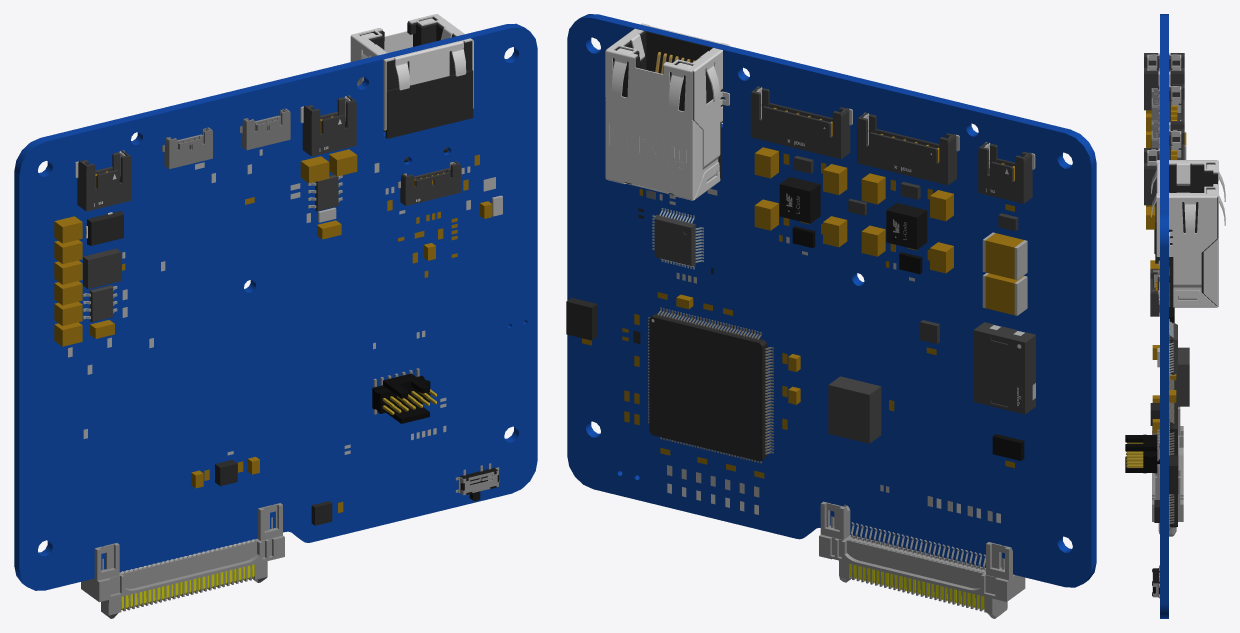
Rendered from phileas.glb.
3 views of the same model, side by side, from view 1: azimuth 30°, elevation 25°; view 2: azimuth 150°, elevation 25°; view 3: azimuth 270°, elevation 25° (orthographic). The views are drawn at different scales.
Visible parts, largest first — view 1: board, if_2, blocks, if_0, parts, if_6, decals, if_8, if_1, if_9, if_7, if_10; view 2: board, parts, if_2, if_0, blocks, if_4, if_5, decals, if_3, inst_0_1, inst_1_1, inst_1_0 (+1 smaller); view 3: if_2, board, parts, blocks, if_1, if_0, if_8, if_5, if_6, if_3, if_4, if_9 (+2 smaller).
Boxes of the visible parts, x1=… form: board: x1=14, y1=23, x2=537, y2=590; if_2: x1=350, y1=14, x2=473, y2=162; blocks: x1=54, y1=149, x2=502, y2=525; if_0: x1=81, y1=503, x2=284, y2=618; parts: x1=83, y1=174, x2=499, y2=501; if_6: x1=300, y1=95, x2=356, y2=156; decals: x1=68, y1=149, x2=495, y2=512; if_8: x1=75, y1=150, x2=131, y2=211; if_1: x1=372, y1=368, x2=436, y2=423; if_9: x1=398, y1=161, x2=460, y2=205; if_7: x1=239, y1=108, x2=290, y2=150; if_10: x1=162, y1=127, x2=212, y2=169; board: x1=567, y1=14, x2=1096, y2=587; parts: x1=648, y1=198, x2=1035, y2=463; if_2: x1=605, y1=23, x2=729, y2=200; if_0: x1=819, y1=501, x2=1025, y2=618; blocks: x1=566, y1=147, x2=1024, y2=460; if_4: x1=750, y1=86, x2=852, y2=159; if_5: x1=857, y1=112, x2=959, y2=185; decals: x1=582, y1=153, x2=1014, y2=523; if_3: x1=978, y1=142, x2=1035, y2=203; inst_0_1: x1=982, y1=232, x2=1027, y2=279; inst_1_1: x1=779, y1=177, x2=820, y2=223; inst_1_0: x1=886, y1=203, x2=927, y2=249; if_2: x1=1151, y1=160, x2=1225, y2=307; board: x1=1160, y1=14, x2=1168, y2=618; parts: x1=1152, y1=110, x2=1189, y2=598; blocks: x1=1146, y1=91, x2=1178, y2=522; if_1: x1=1125, y1=429, x2=1159, y2=478; if_0: x1=1152, y1=406, x2=1183, y2=536; if_8: x1=1144, y1=53, x2=1159, y2=110; if_5: x1=1169, y1=84, x2=1184, y2=130; if_6: x1=1144, y1=148, x2=1159, y2=205; if_3: x1=1169, y1=53, x2=1184, y2=85; if_4: x1=1169, y1=129, x2=1184, y2=159; if_9: x1=1150, y1=269, x2=1159, y2=316.
Size of the model in its own units: 92.01 by 83.96 by 17.86.
